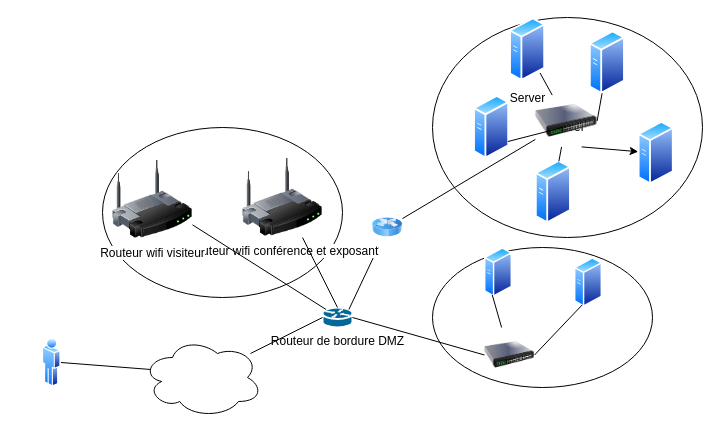
Image size: 720x435. Some labels were removed from this diagram. Here are the shapes that lost their labels. From the top down, the box of each, then its label:
(432, 246, 652, 388): DMZ
(42, 337, 60, 387): User externe
